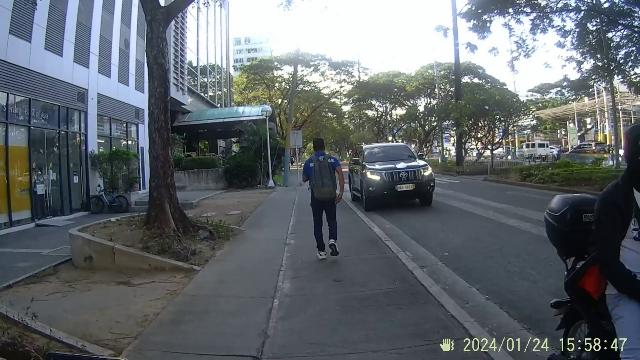car: (344, 134, 444, 220)
lamp_post: (258, 103, 284, 195)
street_sign: (287, 124, 309, 194)
tree: (128, 1, 215, 251)
